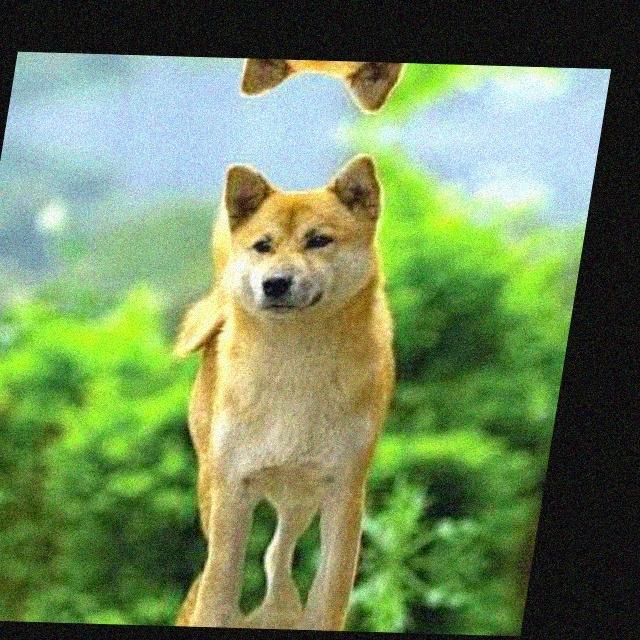dog: (156, 146, 450, 560), (144, 553, 384, 632), (227, 58, 464, 119)
